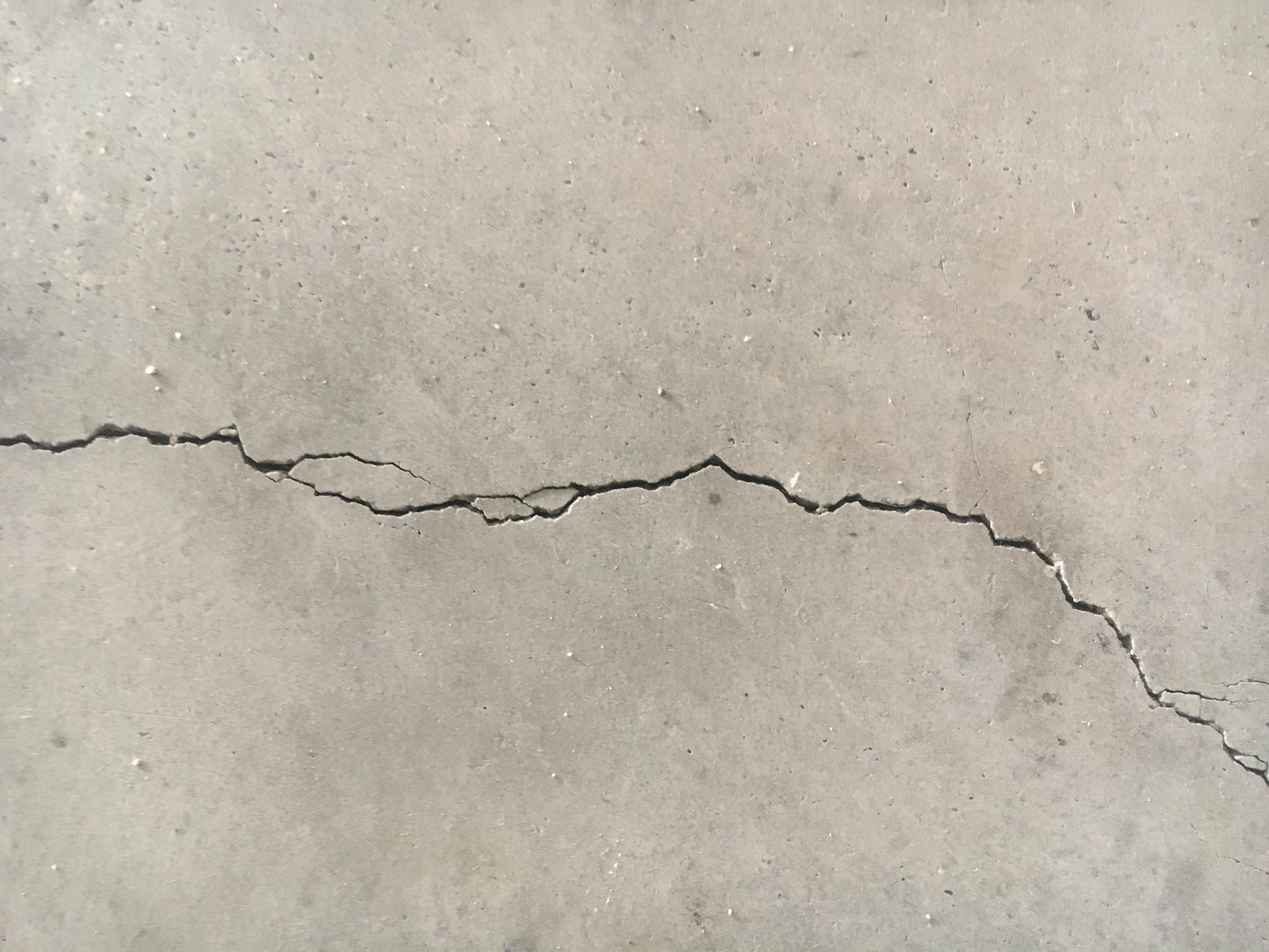Horizontal Settlement Crack: (3, 416, 1266, 788)
